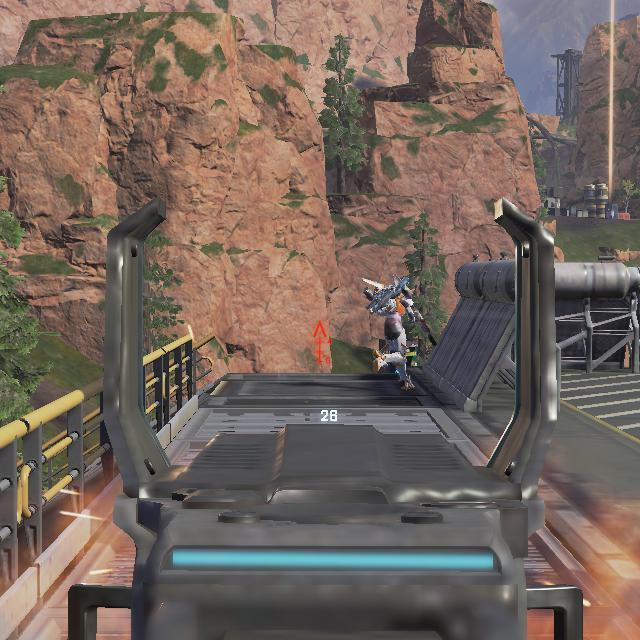avatar: (361, 270, 420, 393)
